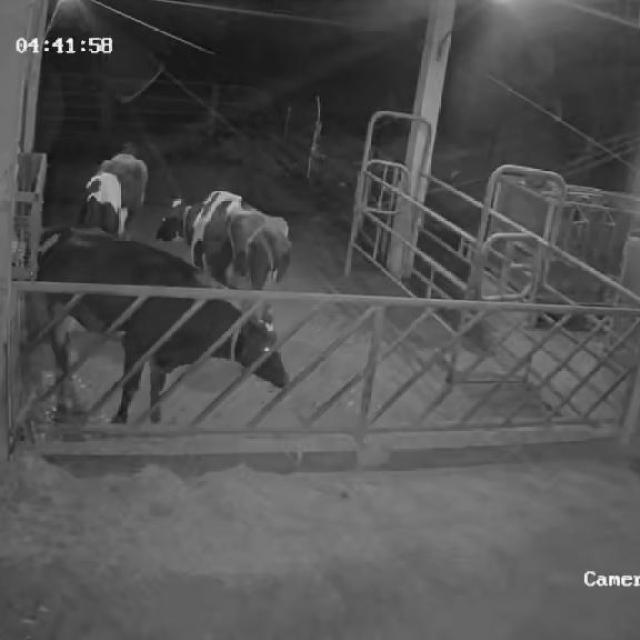standing: (41, 228, 290, 426), (150, 192, 296, 320), (79, 152, 147, 240)
